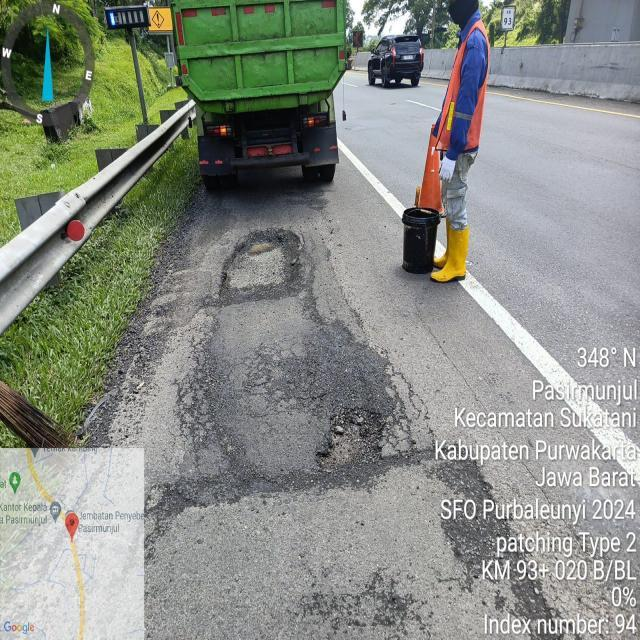Buraco: (212, 226, 308, 310), (312, 404, 392, 476)
